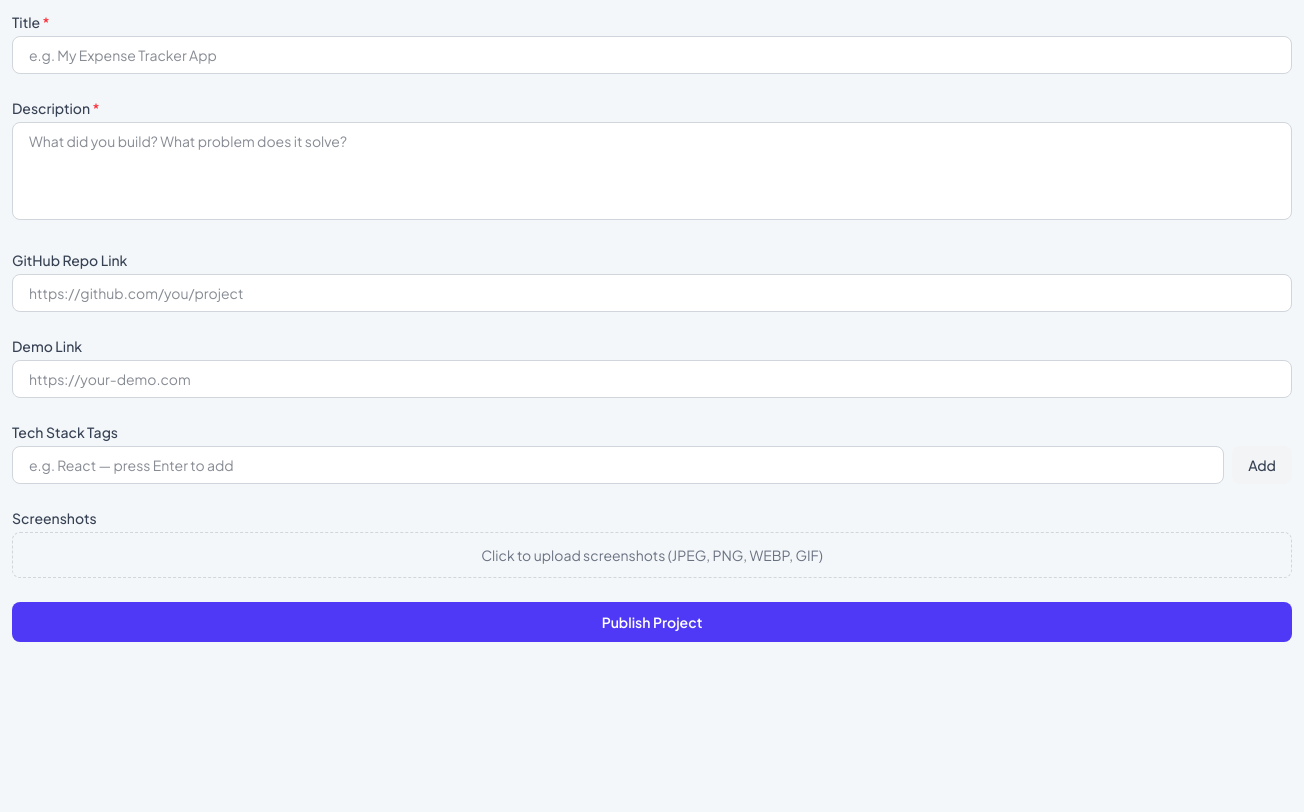
Scenario: CreatePostForm › shows an error message when the API returns an error
In the field with placeholder "e.g. My Expense Tracker App": coordinates (652, 55) [12, 36, 1292, 74], type "My Project"
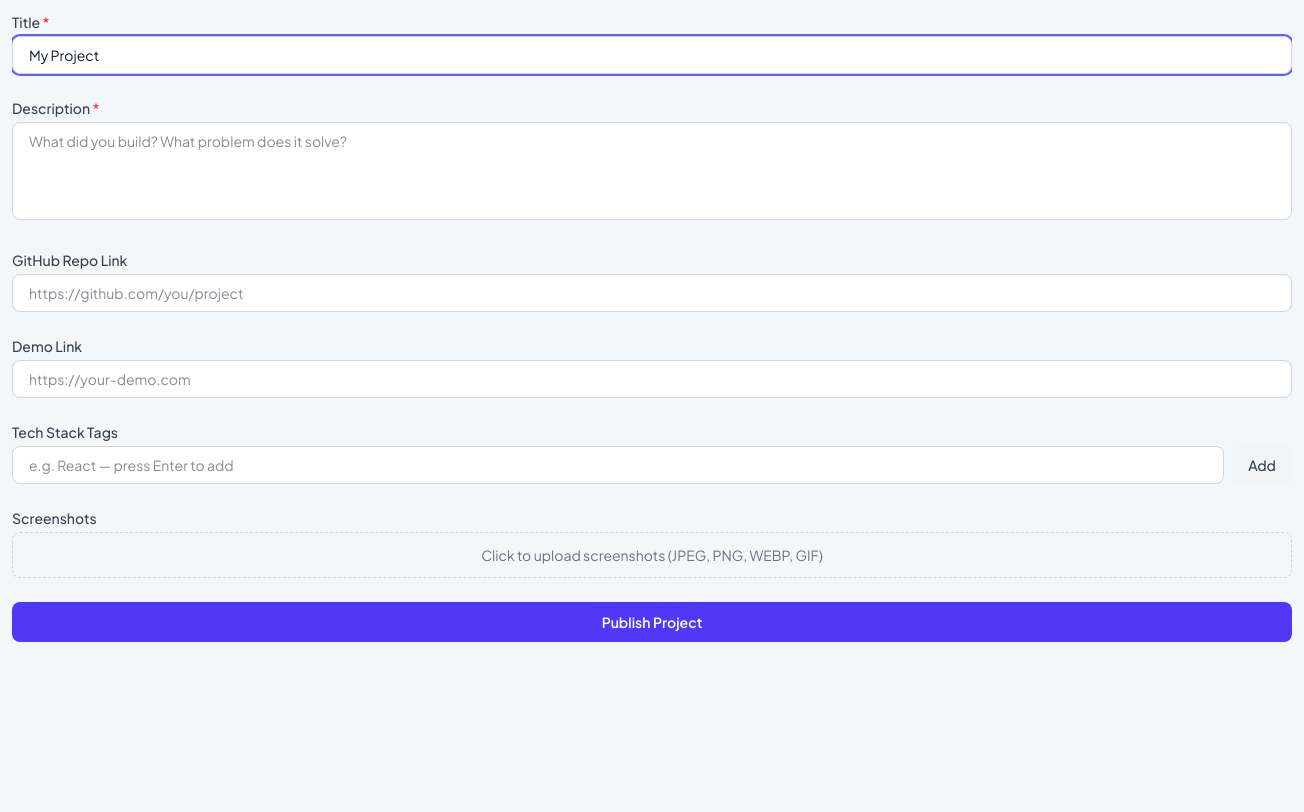
In the text box with placeholder "What did you build? What problem does it solve?": coordinates (652, 171) [12, 122, 1292, 220], type "A cool app"
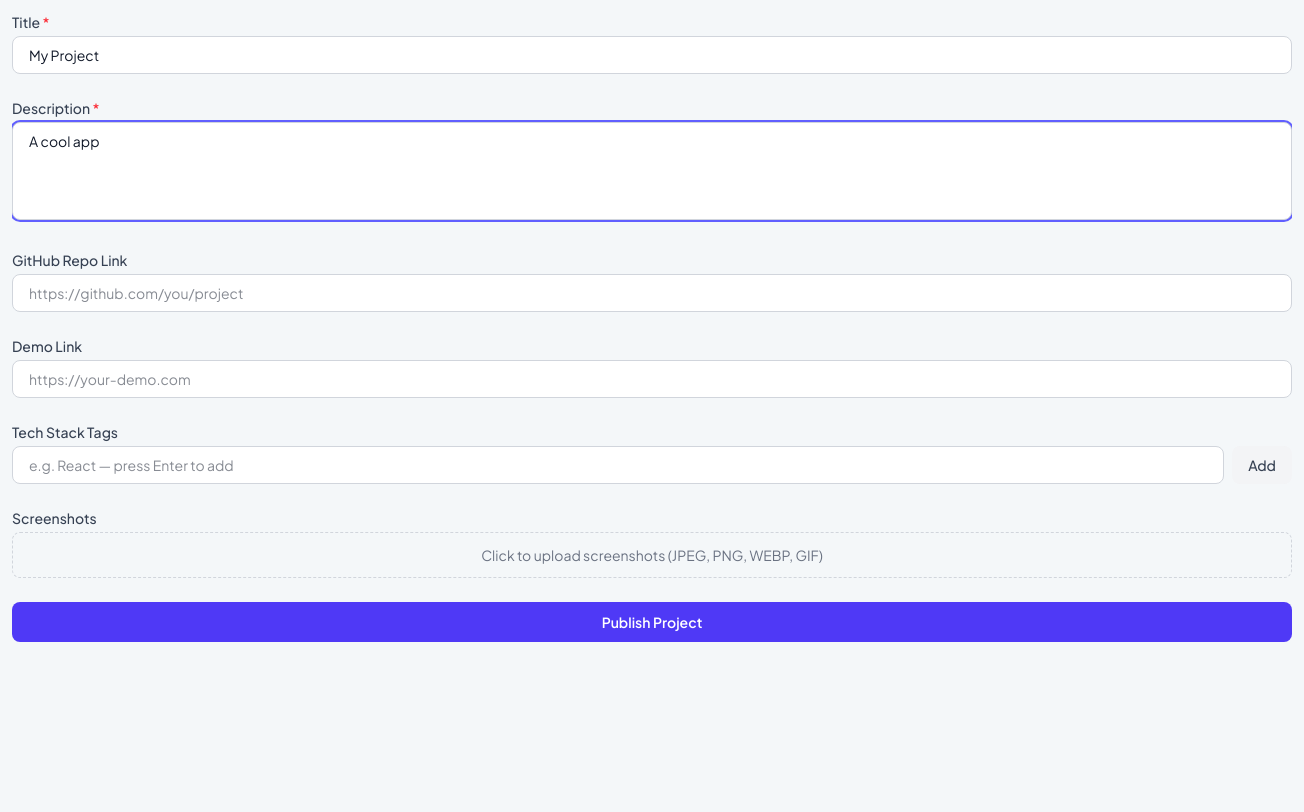
Click the button "Publish Project": coordinates (652, 622) [12, 602, 1292, 642]
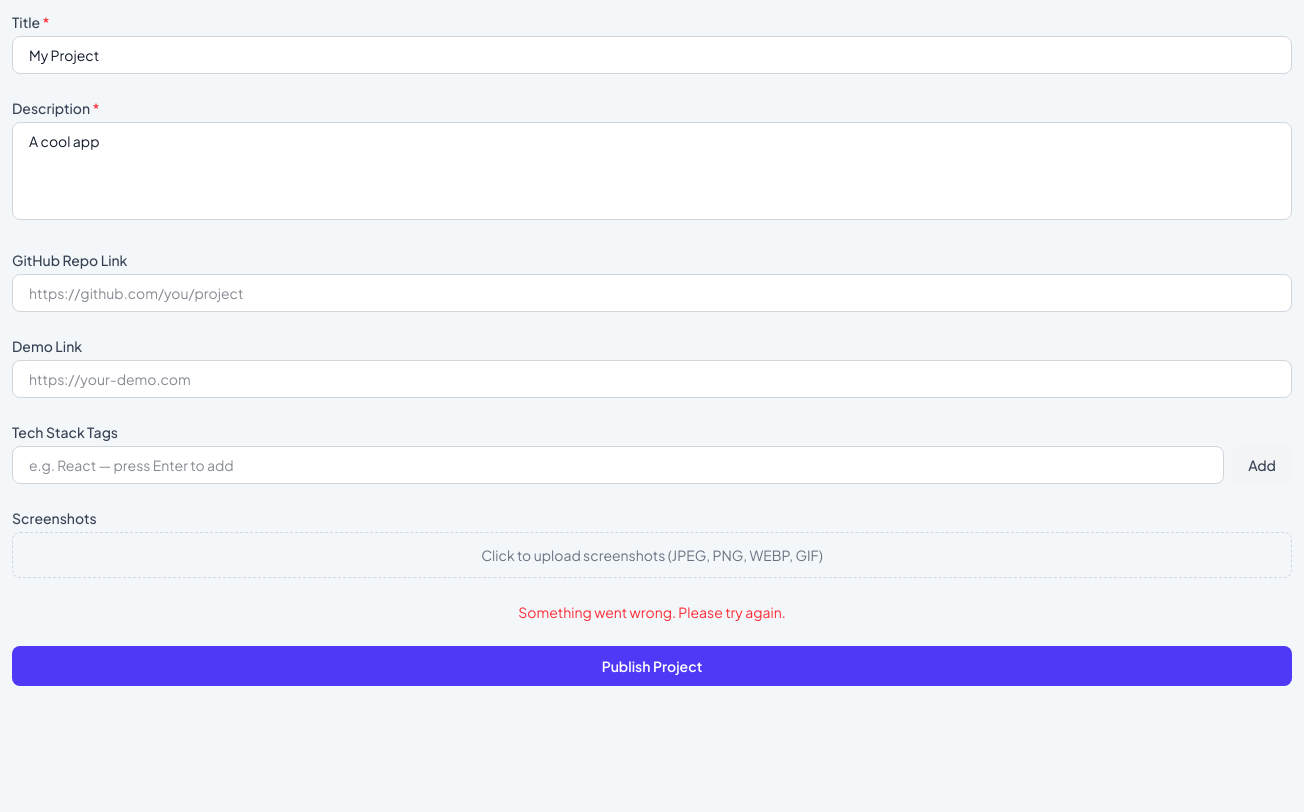
Result: the text "Something went wrong. Please try again." is shown at [518, 603, 786, 621]
